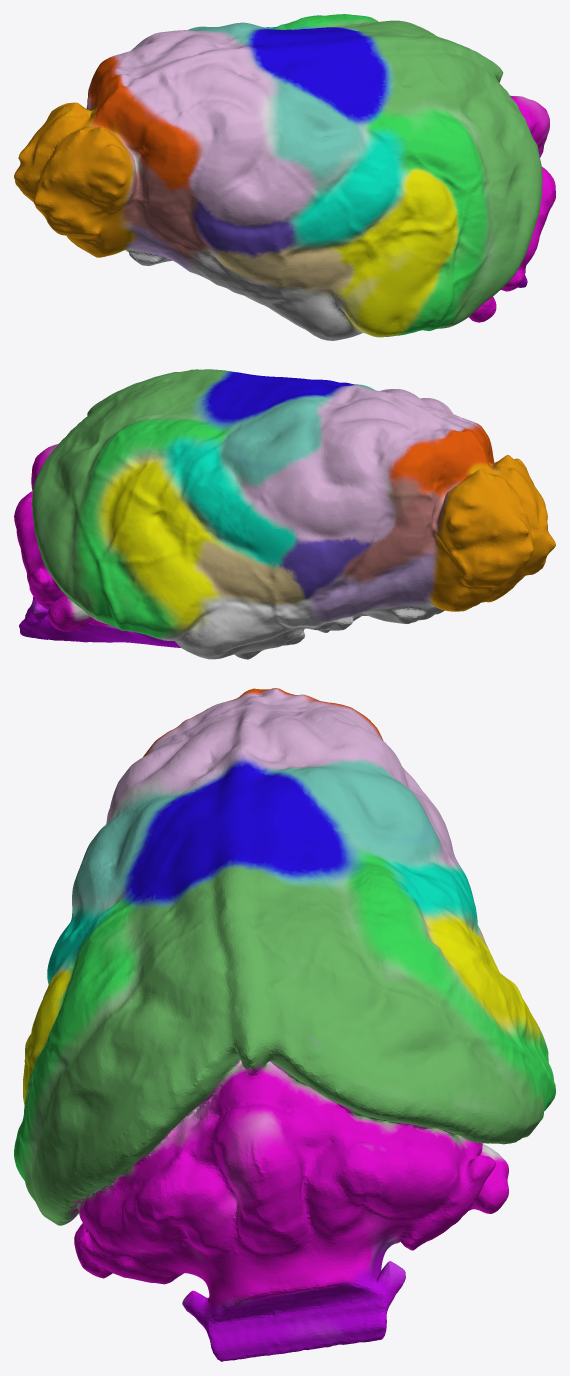
Rendered from pekania-endocast.glb.
The picture shows the model from 3 angles, top to bottom: view 1: azimuth 30°, elevation 25°; view 2: azimuth 150°, elevation 25°; view 3: azimuth 270°, elevation 25°; orthographic projection. The views are drawn at different scales.
Visible parts, largest first — view 1: geometry_0; view 2: geometry_0; view 3: geometry_0.
Part boxes in pixels (<box>): geometry_0: <box>14,14,555,340</box>; geometry_0: <box>14,369,555,659</box>; geometry_0: <box>14,688,555,1361</box>.
Bounding box in the file's own units: 48.76 × 27.47 × 31.57.
